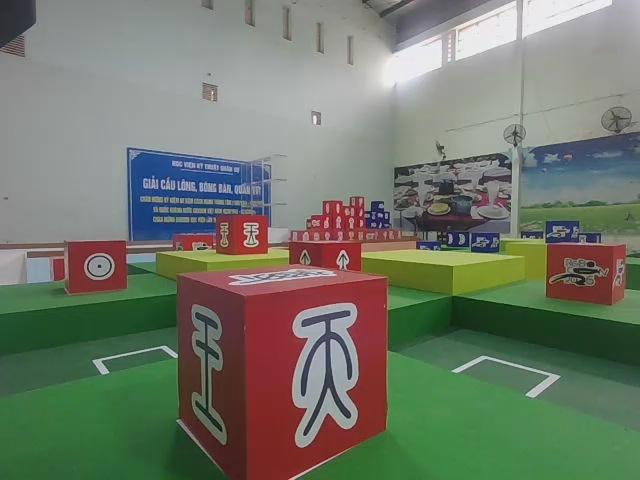R1: (543, 240, 629, 311)
R2 Fake: (174, 260, 391, 477)
R2 Real: (62, 236, 129, 297), (213, 212, 270, 256)
